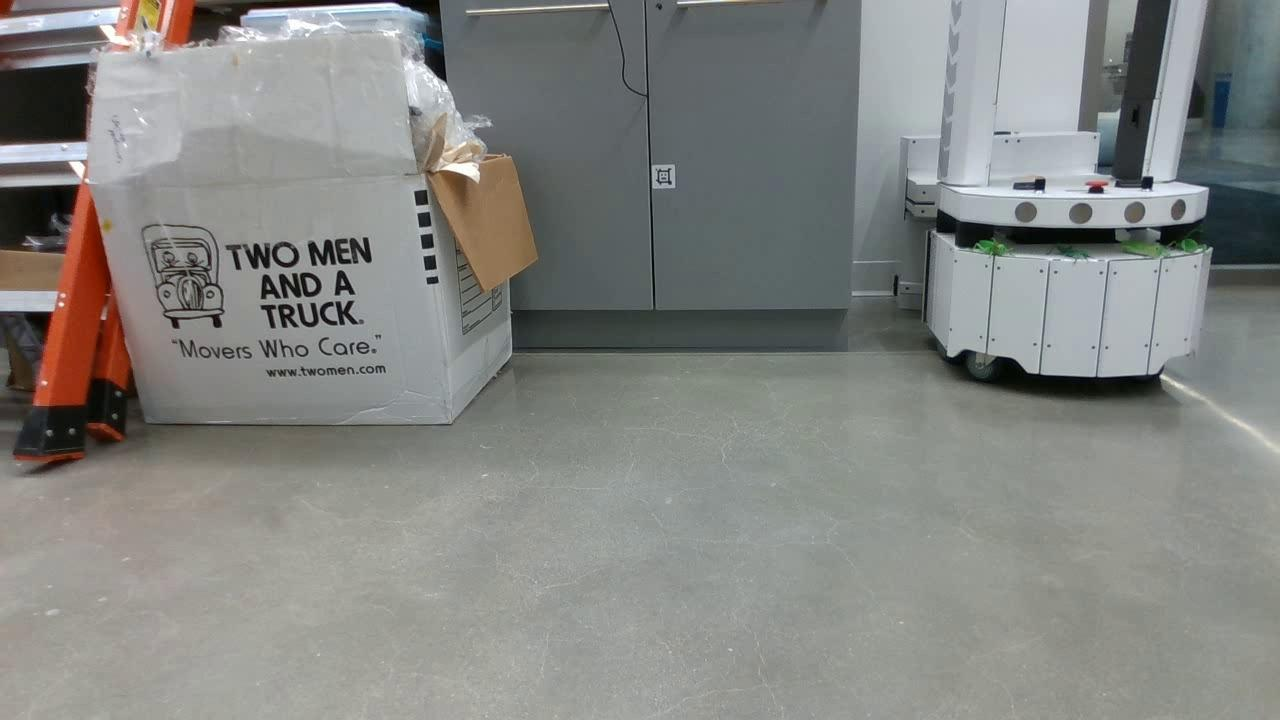grasshopper: (1117, 232, 1170, 262), (963, 234, 1013, 260), (1169, 229, 1213, 255)
